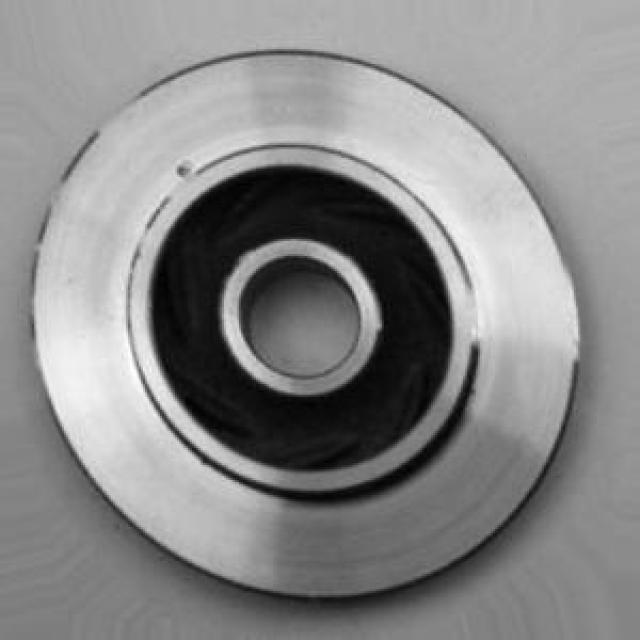Defect: (175, 158, 195, 182)
